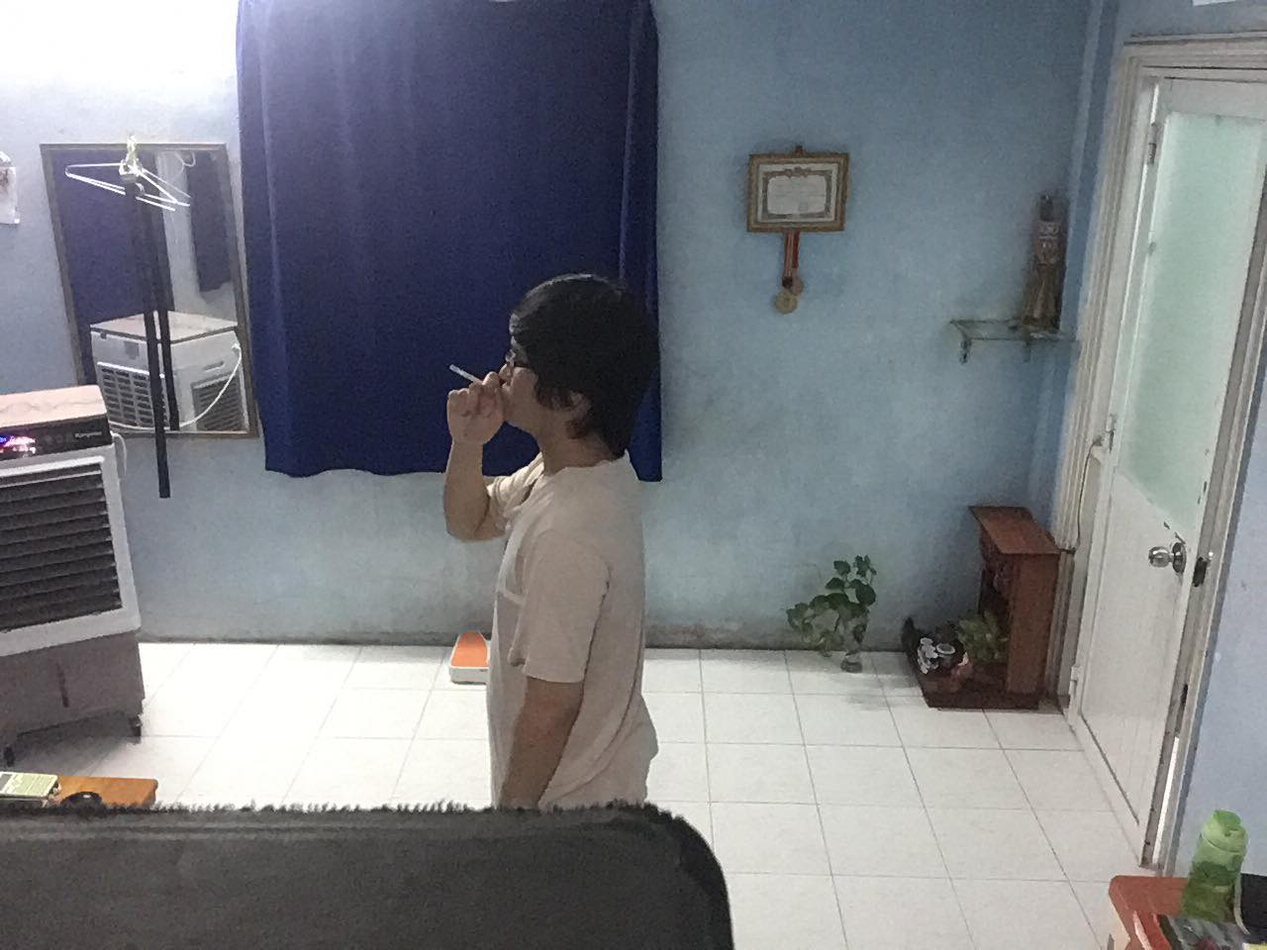cigarette: (444, 359, 484, 386)
person: (439, 269, 674, 835)
